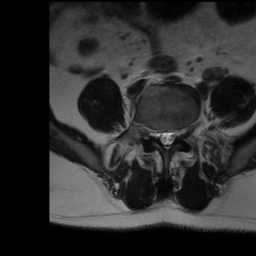CCS_normal: (163, 120, 170, 155)
LFS_normal: (176, 121, 183, 144)
LLS_normal: (170, 121, 176, 150)
RFS_normal: (148, 119, 156, 146)
RLS_normal: (156, 121, 163, 149)
